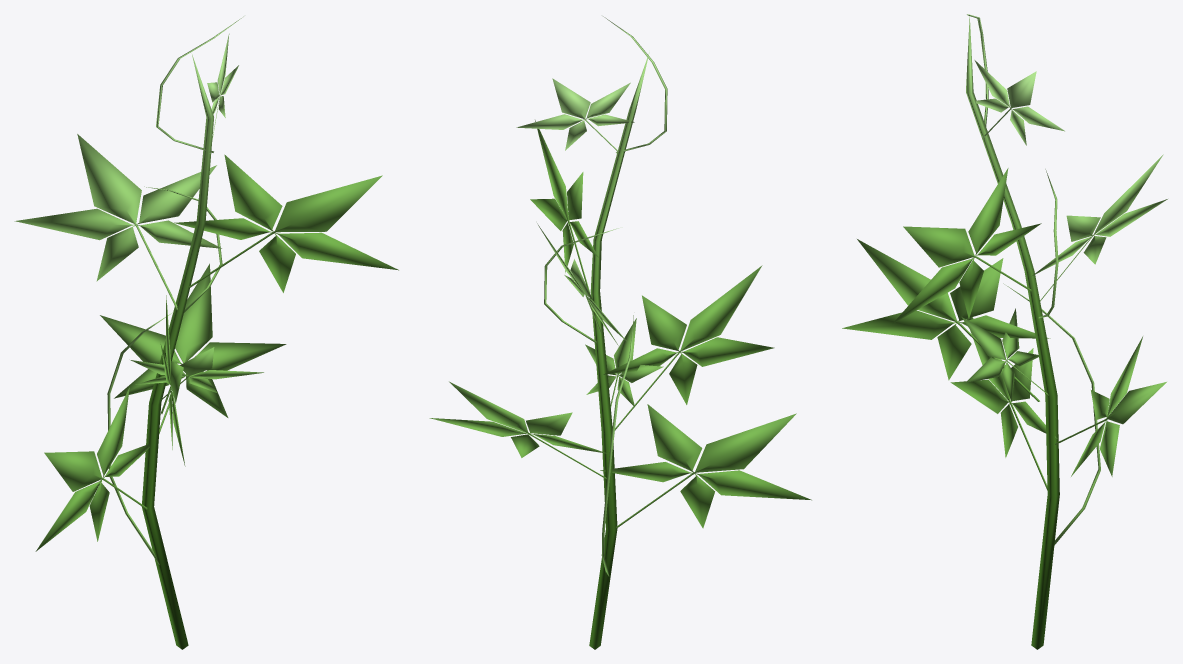
The picture shows the model from 3 angles, left to right: view 1: azimuth 30°, elevation 25°; view 2: azimuth 150°, elevation 25°; view 3: azimuth 270°, elevation 25°; orthographic projection. The views are drawn at different scales.
Visible parts, largest first — view 1: fp21; view 2: fp21; view 3: fp21.
Part boxes in pixels (box(x1,y1,x2,y2)): fp21: box(14, 16, 398, 649); fp21: box(429, 16, 811, 649); fp21: box(842, 14, 1167, 649).
Size of the model in its own units: 90.56 by 168 by 77.27.
